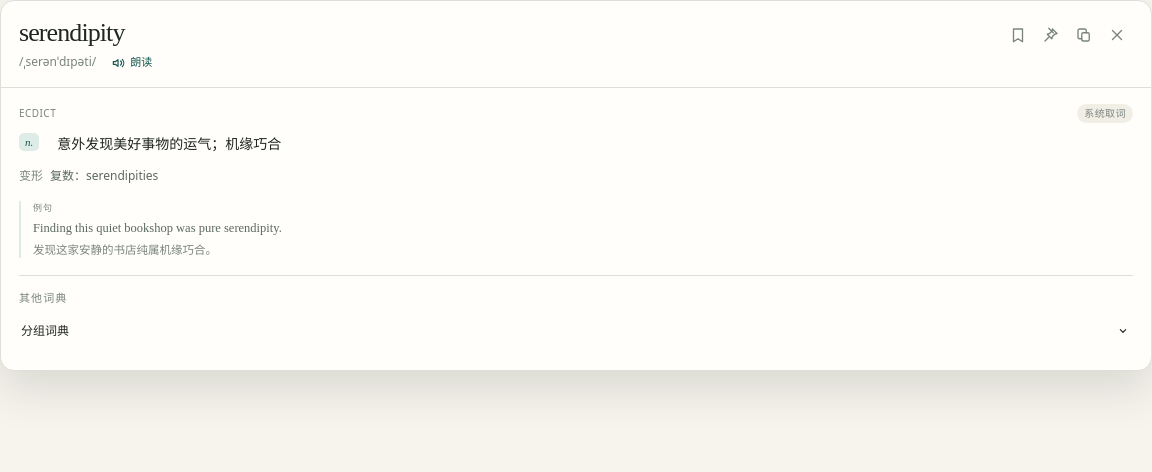
Test: OverlayCard › groups multiple rows from the same secondary dictionary
Click the button "分组词典": (45, 330) [19, 312, 1133, 350]
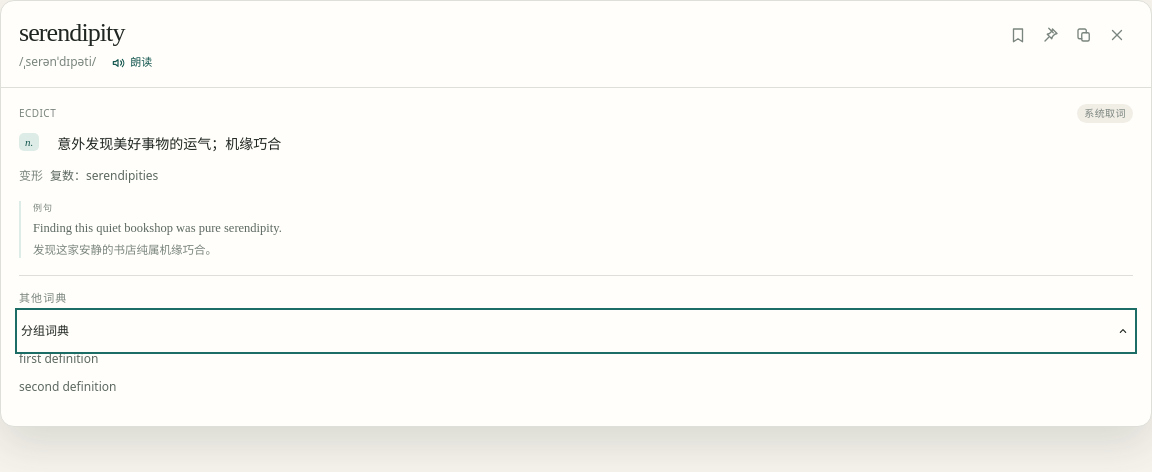
Expected: the text "first definition" is shown, [19, 350, 98, 367]
Expected: the text "second definition" is shown, [19, 378, 116, 395]
